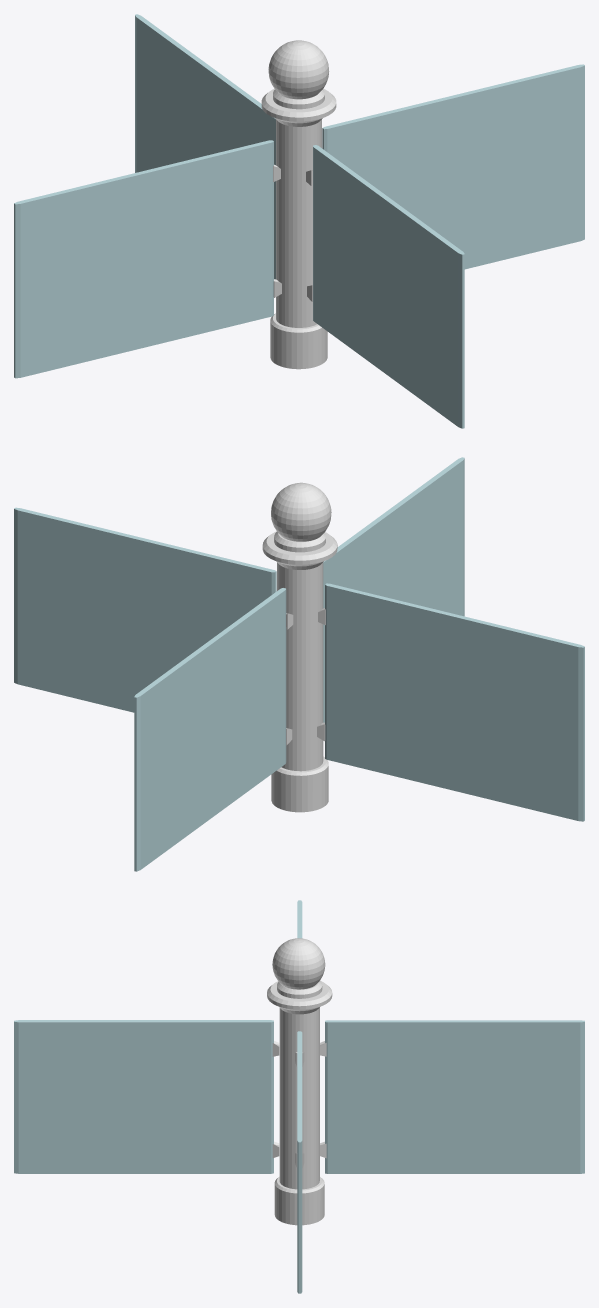
The model's file is fence.fbx.
3 renders of one model, top to bottom at view 1: azimuth 30°, elevation 25°; view 2: azimuth 150°, elevation 25°; view 3: azimuth 270°, elevation 25°, orthographic. The views are drawn at different scales.
Visible parts, largest first — view 1: Куб, Куб.003, Куб.001, Сфера, Куб.002; view 2: Куб, Куб.003, Куб.002, Сфера, Куб.001; view 3: Куб.001, Куб.002, Сфера, Куб.003.
Boxes of the visible parts, left/top/right/bottom form: Куб: left=14, top=140, right=273, bottom=378; Куб.003: left=322, top=64, right=584, bottom=269; Куб.001: left=313, top=145, right=464, bottom=428; Сфера: left=261, top=40, right=336, bottom=369; Куб.002: left=135, top=14, right=275, bottom=279; Куб: left=325, top=583, right=584, bottom=821; Куб.003: left=14, top=507, right=276, bottom=712; Куб.002: left=134, top=588, right=286, bottom=871; Сфера: left=262, top=482, right=337, bottom=812; Куб.001: left=323, top=457, right=464, bottom=722; Куб.001: left=14, top=1020, right=273, bottom=1173; Куб.002: left=325, top=1020, right=584, bottom=1173; Сфера: left=267, top=938, right=332, bottom=1225; Куб.003: left=297, top=1031, right=302, bottom=1293.
Bounding box in the file's own units: 939 × 496 × 936.
